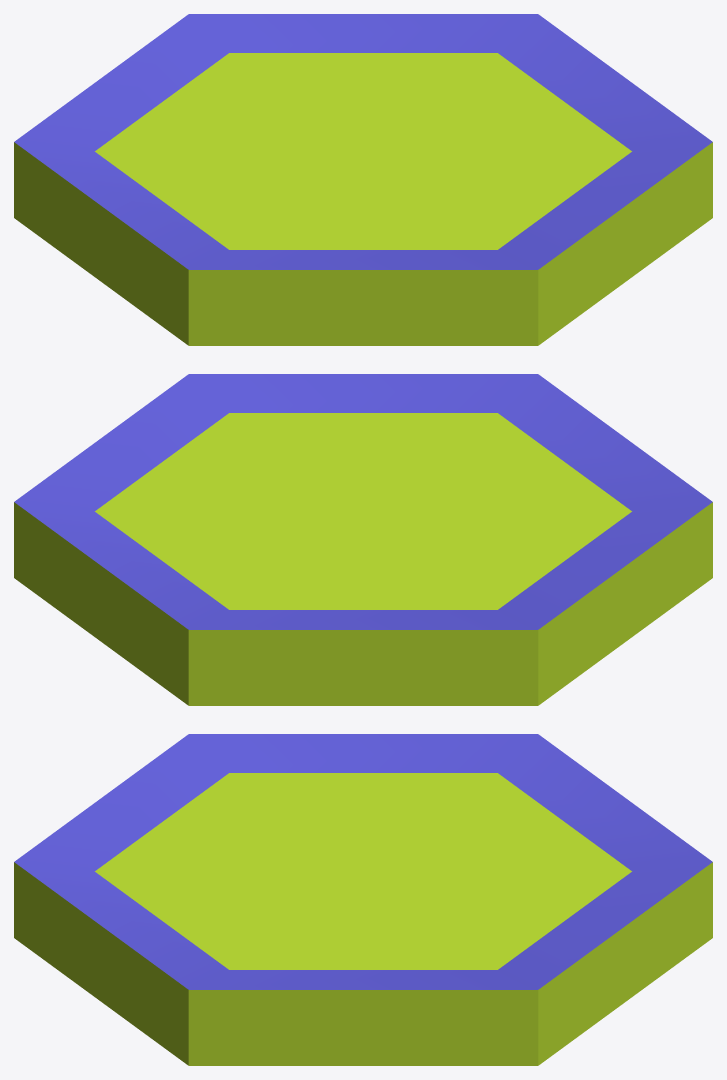
The model's file is Plate.fbx.
3 renders of one model, top to bottom at view 1: azimuth 30°, elevation 25°; view 2: azimuth 150°, elevation 25°; view 3: azimuth 270°, elevation 25°, orthographic.
Visible parts, largest first — view 1: Plate; view 2: Plate; view 3: Plate.
Boxes of the visible parts, box(x1,y1,x2,y2) form: Plate: box(14, 14, 712, 345); Plate: box(14, 374, 712, 705); Plate: box(14, 734, 712, 1065).
Bounding box in the file's own units: 86.6 × 12 × 100.
